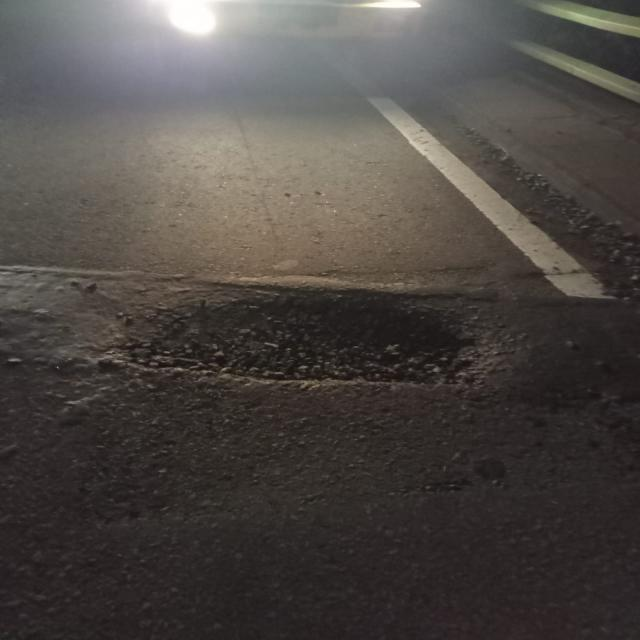Buraco: (120, 282, 484, 393)
